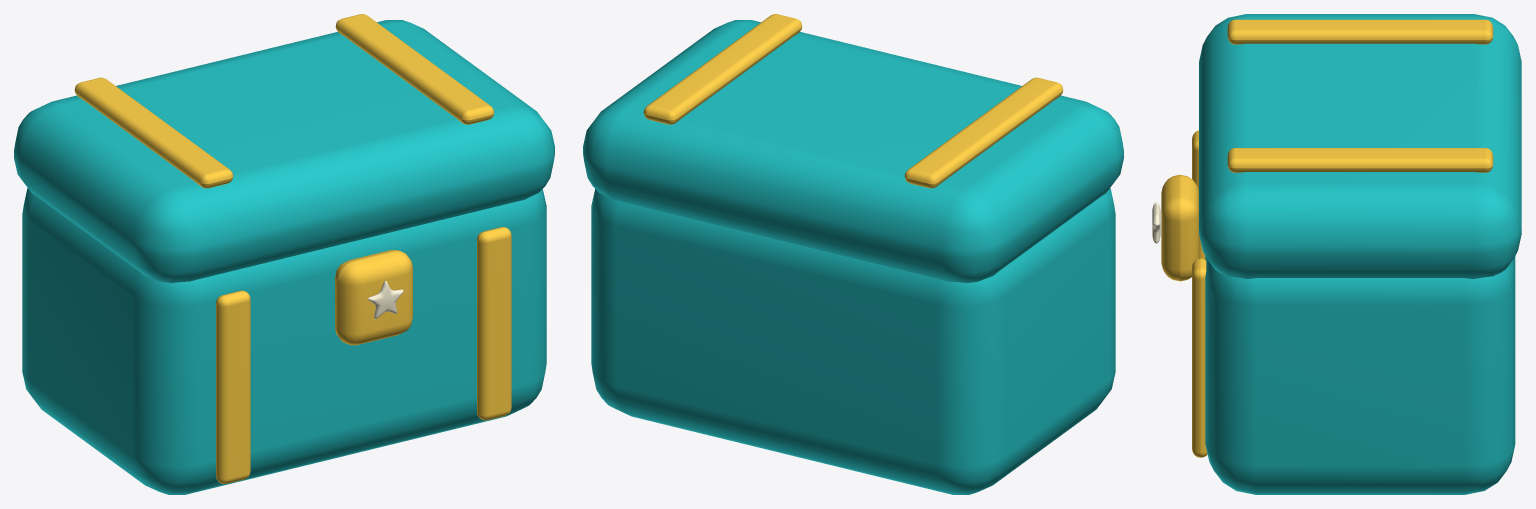
The model's file is treasure-chest.glb.
3 views of the same model, side by side, from view 1: azimuth 30°, elevation 25°; view 2: azimuth 150°, elevation 25°; view 3: azimuth 270°, elevation 25° (orthographic).
Visible parts, largest first — view 1: Chest body, Chest lid, Golden band.001, Golden band, Lock, Lid band, Lid band.001, Lock star; view 2: Chest body, Chest lid, Lid band, Lid band.001; view 3: Chest lid, Chest body, Lid band, Lid band.001, Lock, Golden band.001, Golden band.
Boxes of the visible parts, x1,y1,x2,y2 form: Chest body: (22, 188, 546, 494); Chest lid: (14, 20, 554, 283); Golden band.001: (477, 227, 511, 420); Golden band: (216, 290, 250, 483); Lock: (335, 250, 412, 345); Lid band: (74, 77, 233, 188); Lid band.001: (335, 14, 494, 124); Lock star: (368, 281, 403, 319); Chest body: (591, 188, 1115, 494); Chest lid: (583, 20, 1123, 283); Lid band: (904, 77, 1063, 188); Lid band.001: (643, 14, 802, 124); Chest lid: (1199, 14, 1521, 278); Chest body: (1205, 256, 1515, 494); Lid band: (1227, 19, 1493, 44); Lid band.001: (1227, 148, 1493, 172); Lock: (1161, 174, 1198, 281); Golden band.001: (1192, 258, 1207, 457); Golden band: (1192, 130, 1205, 259).
Bounding box in the file's own units: 1.53 × 1.12 × 1.17.
